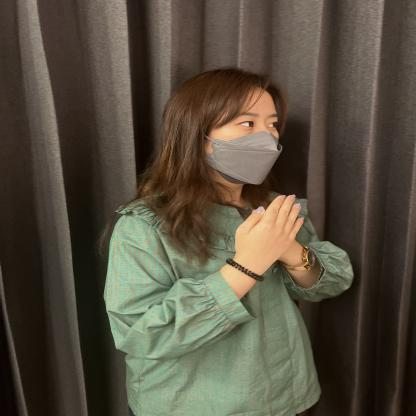Grieve: (202, 188, 344, 291)
